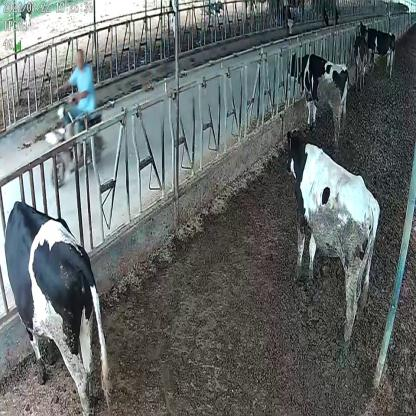cow: (2, 192, 111, 415), (285, 124, 382, 350), (284, 46, 348, 144)
